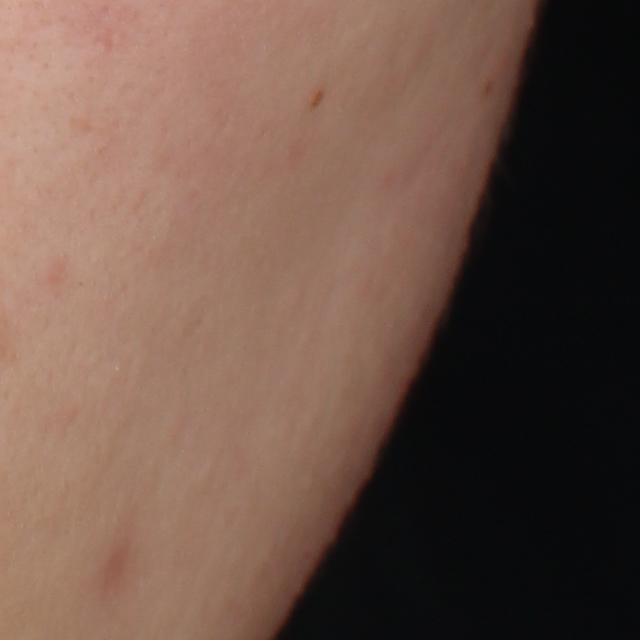nevus: (306, 82, 328, 107)
